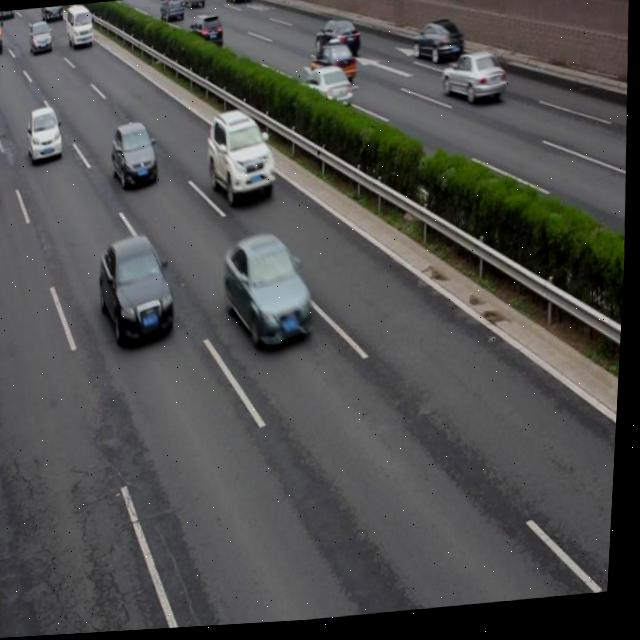car: (224, 232, 318, 355), (97, 235, 180, 346), (204, 110, 280, 205), (440, 56, 507, 112), (111, 123, 163, 191), (301, 67, 353, 114), (412, 22, 461, 70), (26, 107, 66, 162), (308, 43, 357, 85), (314, 21, 361, 60), (188, 14, 225, 53), (29, 20, 53, 57), (160, 0, 184, 22), (225, 0, 252, 6)
truck: (65, 5, 93, 49), (181, 0, 204, 10)
